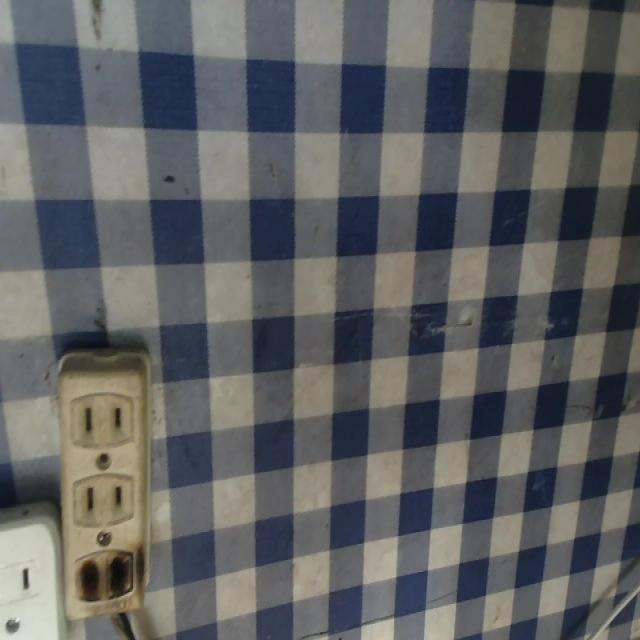-: (69, 543, 154, 604)
